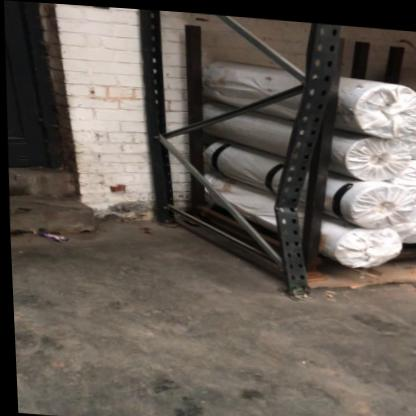vertical_damage: (253, 127, 330, 247)
